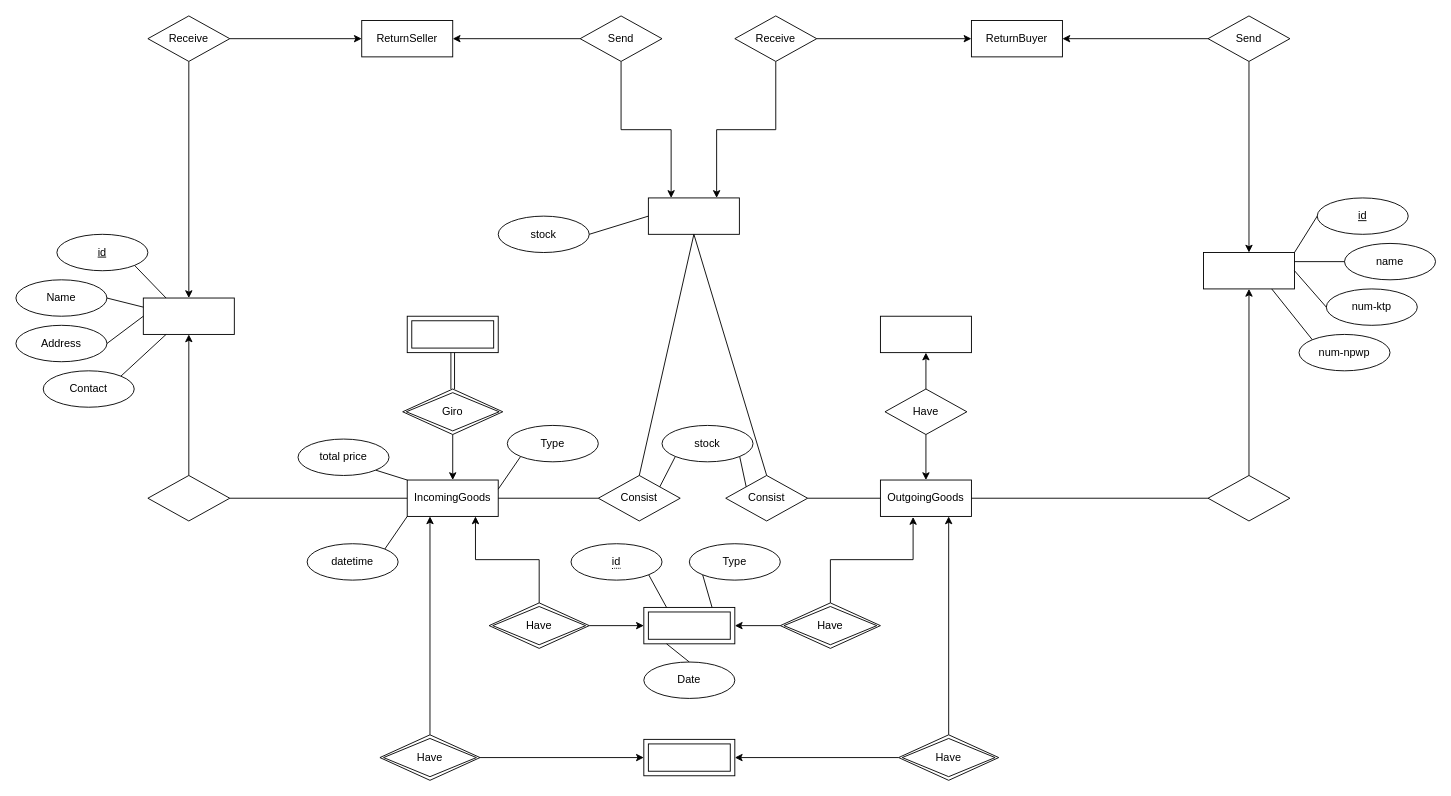
Image size: 1451x796. Some labels were removed from this diagram. The centre of each missing label's shape, as x and y in pixels:
"Buy" goes at [1248,498].
"Buyer" goes at [1248,270].
"Claim" goes at [925,334].
"DeliveryNote" goes at [689,625].
"Invoice" goes at [689,757].
"Payment" goes at [452,334].
"Product" goes at [693,215].
"Sell" goes at [188,498].
"Supplier" goes at [188,315].
